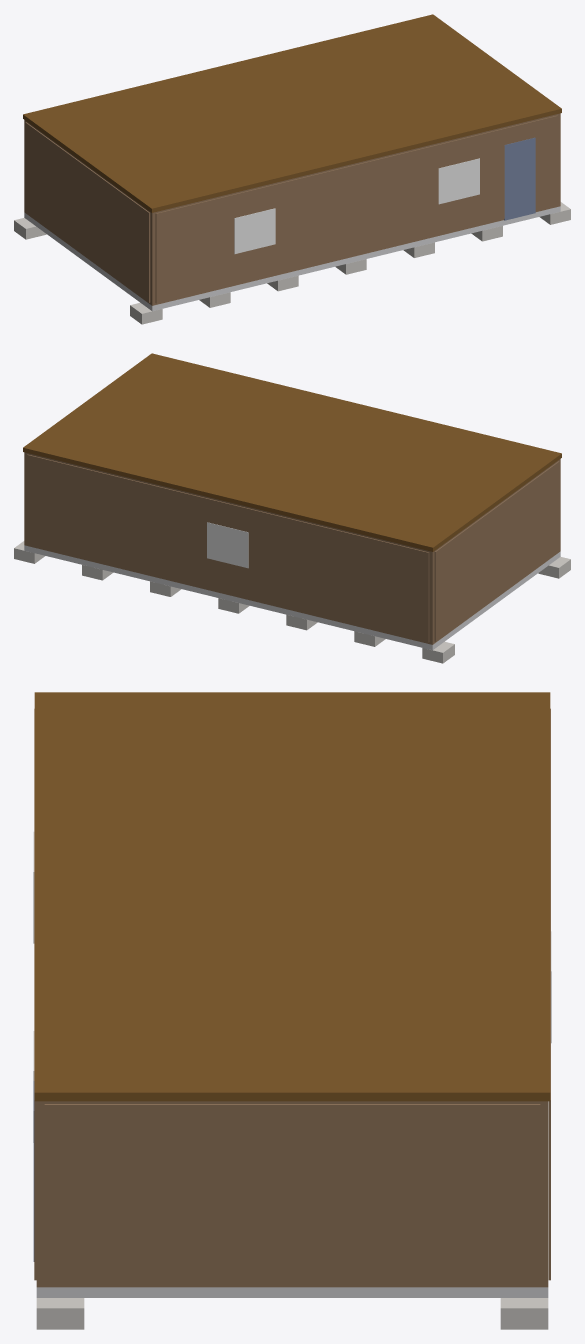
Rendered from Studio-40-Base-DarkBrown-LOD1.glb.
3 renders of one model, top to bottom at view 1: azimuth 30°, elevation 25°; view 2: azimuth 150°, elevation 25°; view 3: azimuth 270°, elevation 25°, orthographic. The views are drawn at different scales.
Visible parts, largest first — view 1: RoofMain, ExteriorPanelsStandard, BaseFrame, WindowsStandard, ExteriorShell, FoundationBlocks, EntryDoor; view 2: RoofMain, ExteriorPanelsStandard, BaseFrame, ExteriorShell, FoundationBlocks, WindowsStandard; view 3: RoofMain, ExteriorPanelsStandard, ExteriorShell, BaseFrame, FoundationBlocks.
Part boxes in pixels (x1,y1,x2,y2): RoofMain: [23, 14, 561, 212]; ExteriorPanelsStandard: [25, 115, 557, 303]; BaseFrame: [24, 206, 560, 311]; WindowsStandard: [234, 158, 479, 254]; ExteriorShell: [24, 113, 560, 305]; FoundationBlocks: [14, 202, 570, 324]; EntryDoor: [504, 137, 535, 220]; RoofMain: [23, 353, 561, 551]; ExteriorPanelsStandard: [27, 454, 559, 642]; BaseFrame: [24, 545, 560, 650]; ExteriorShell: [24, 452, 560, 644]; FoundationBlocks: [14, 541, 570, 663]; WindowsStandard: [207, 522, 248, 568]; RoofMain: [34, 692, 550, 1101]; ExteriorPanelsStandard: [34, 708, 550, 1284]; ExteriorShell: [36, 1101, 548, 1287]; BaseFrame: [36, 1287, 548, 1297]; FoundationBlocks: [36, 1298, 548, 1329].
Size of the model in its own units: 12.49 by 3.17 by 6.53.
